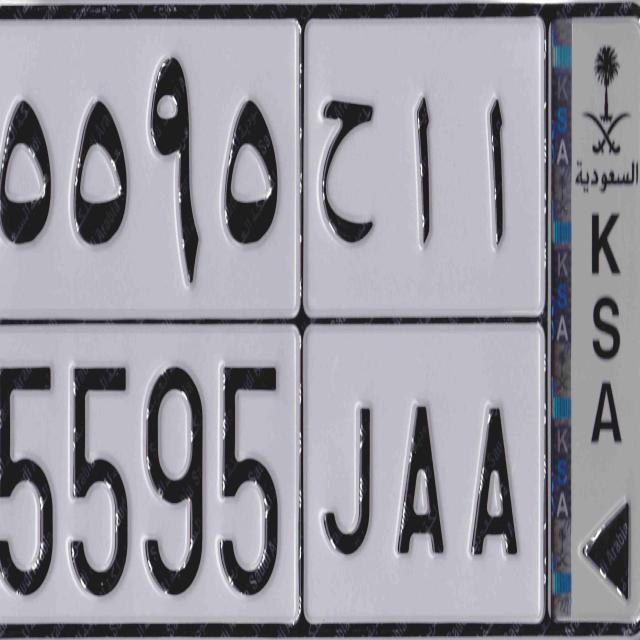license_plate: (0, 318, 549, 632)
